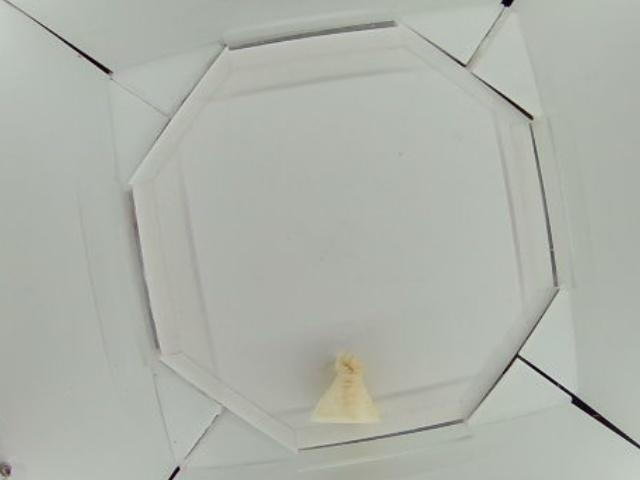Mooli: (308, 352, 383, 424)
